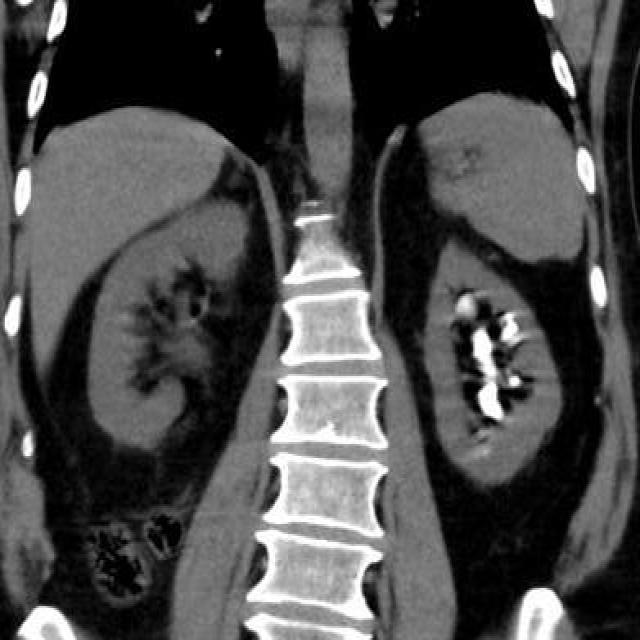Tas_Var: (472, 380, 505, 426), (468, 326, 493, 362), (454, 289, 482, 319), (496, 319, 520, 343), (479, 362, 503, 378), (508, 375, 522, 389), (502, 309, 512, 319)
